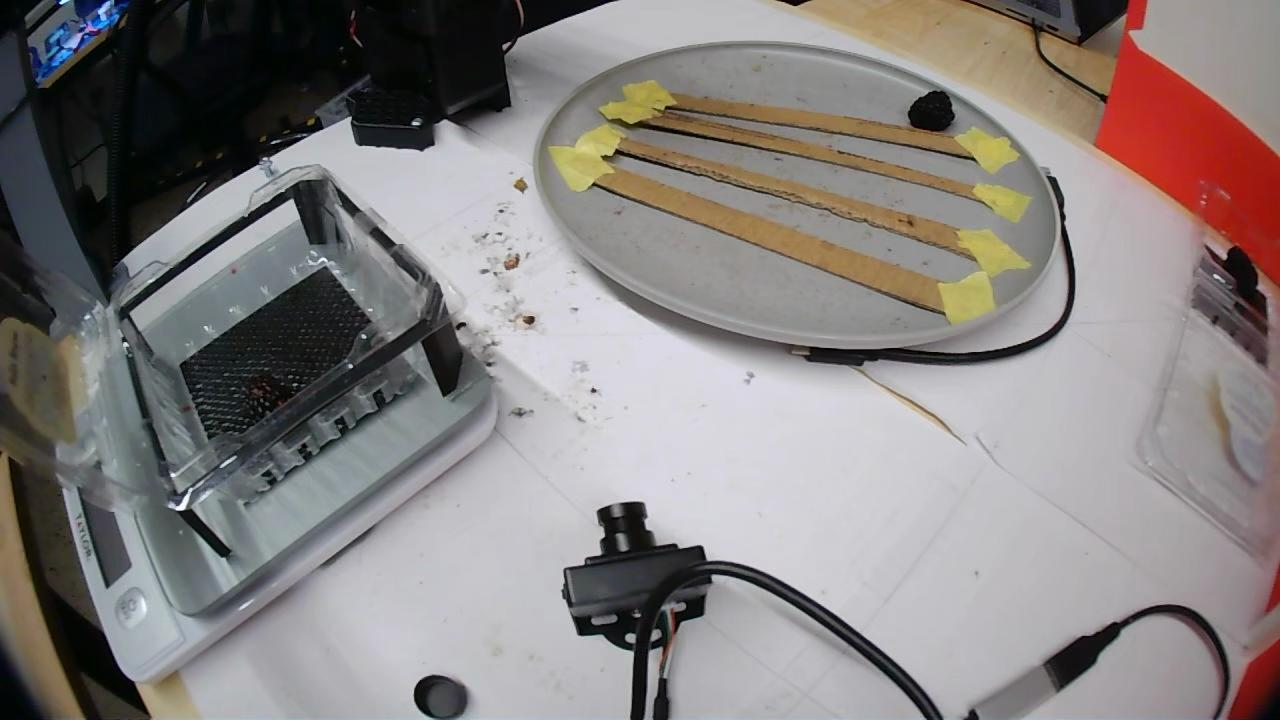berry: (909, 91, 955, 131), (244, 374, 290, 414)
